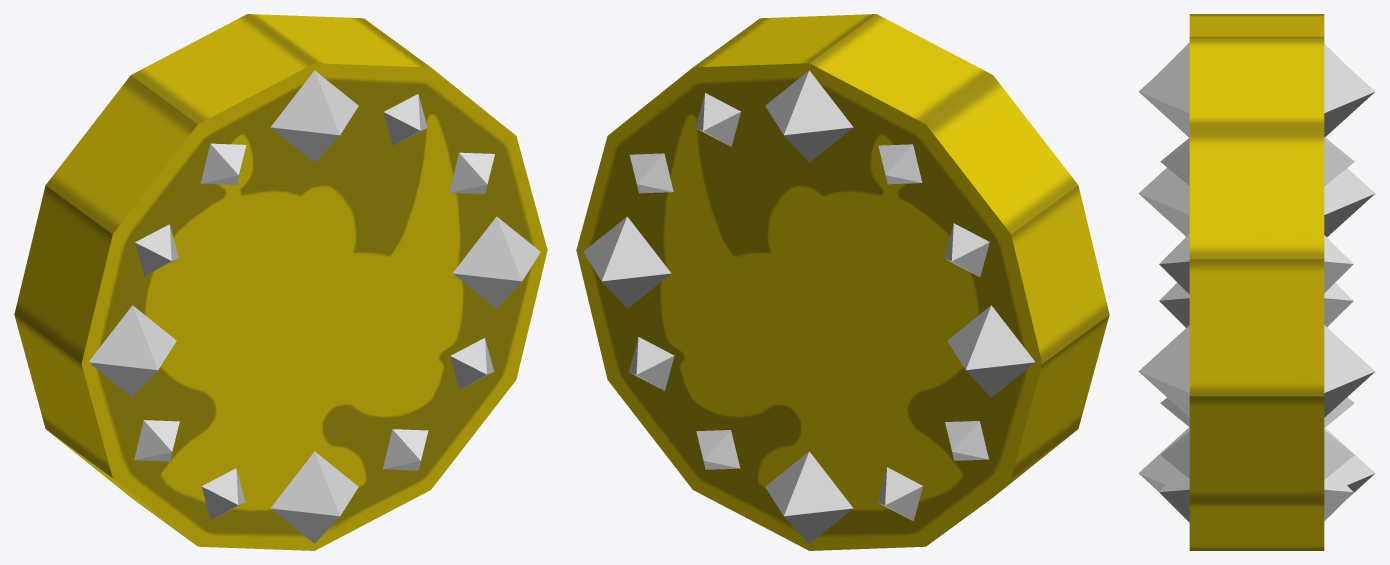
The model's file is Rhino_Coin Fancy.fbx.
3 views of the same model, side by side, from view 1: azimuth 30°, elevation 25°; view 2: azimuth 150°, elevation 25°; view 3: azimuth 270°, elevation 25° (orthographic).
Visible parts, largest first — view 1: Rhino_Coin_Fancy, pCone2, pCone3, pCone4, pCone1, pCone9, pCone12, pCone11, pCone10, pCone5, pCone6, pCone7 (+1 smaller); view 2: Rhino_Coin_Fancy, pCone2, pCone3, pCone4, pCone1, pCone11, pCone9, pCone10, pCone12, pCone7, pCone6, pCone5 (+1 smaller); view 3: Rhino_Coin_Fancy, pCone1 (×2), pCone3 (×2), pCone4 (×2), pCone2 (×2), pCone9 (×2), pCone8 (×2), pCone12 (×2), pCone10, pCone7, pCone5, pCone11 (+1 smaller).
Boxes of the visible parts, x1,y1,x2,y2 form: Rhino_Coin_Fancy: (14, 14, 547, 550); pCone2: (270, 451, 358, 543); pCone3: (88, 305, 176, 397); pCone4: (452, 216, 540, 308); pCone1: (270, 70, 358, 162); pCone9: (134, 420, 179, 461); pCone12: (383, 429, 428, 470); pCone11: (201, 143, 246, 184); pCone10: (449, 152, 494, 193); pCone5: (201, 468, 245, 520); pCone6: (383, 94, 427, 145); pCone7: (135, 224, 178, 276); Rhino_Coin_Fancy: (576, 14, 1109, 550); pCone2: (765, 451, 853, 543); pCone3: (583, 216, 671, 308); pCone4: (947, 305, 1035, 397); pCone1: (765, 70, 853, 162); pCone11: (695, 93, 740, 146); pCone9: (629, 337, 674, 390); pCone10: (944, 223, 989, 276); pCone12: (877, 467, 922, 521); pCone7: (630, 153, 673, 193); pCone6: (878, 144, 922, 184); pCone5: (696, 430, 740, 469); Rhino_Coin_Fancy: (1189, 14, 1324, 550); pCone1 (×2): (1138, 45, 1375, 137); pCone3 (×2): (1138, 167, 1375, 417); pCone4 (×2): (1138, 168, 1375, 417); pCone2 (×2): (1138, 427, 1375, 497); pCone9 (×2): (1159, 282, 1354, 479); pCone8 (×2): (1160, 282, 1353, 478); pCone12 (×2): (1159, 397, 1354, 522); pCone10: (1159, 234, 1189, 293); pCone7: (1324, 235, 1353, 292); pCone5: (1324, 472, 1353, 520); pCone11: (1324, 137, 1354, 186).
Size of the model in its own units: 154 by 154 by 67.59.
Materials: 2 (1 with a texture image).
